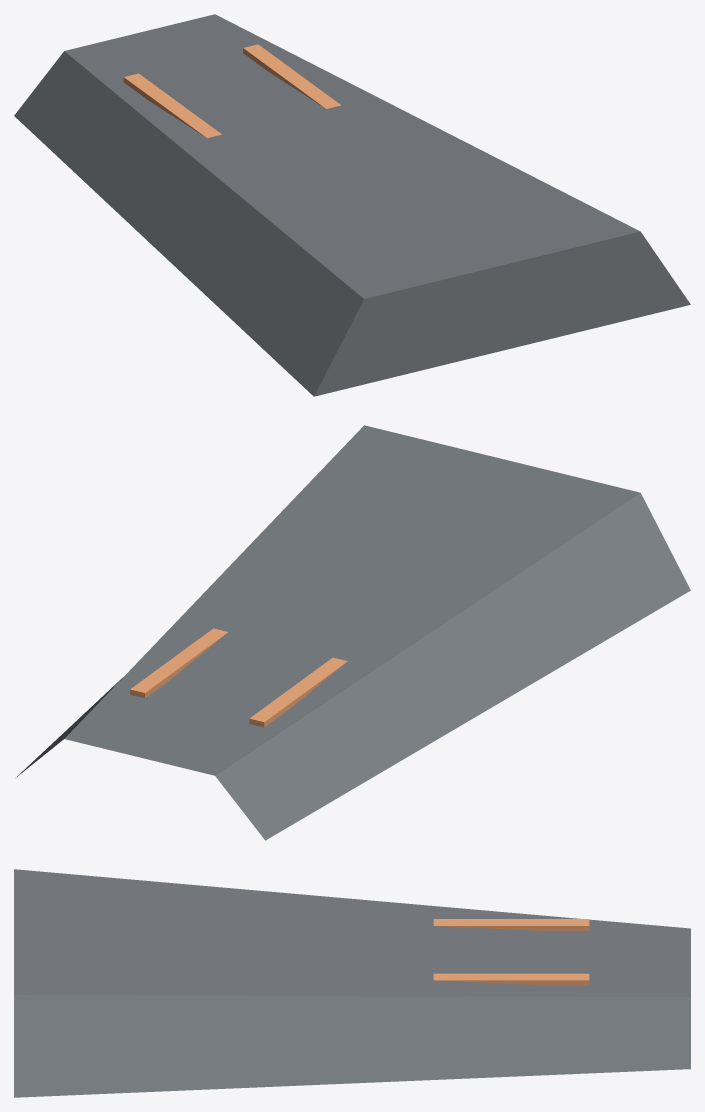
The model's file is glassy_lava_tongue_near-CpFqfPd1.glb.
3 renders of one model, top to bottom at view 1: azimuth 30°, elevation 25°; view 2: azimuth 150°, elevation 25°; view 3: azimuth 270°, elevation 25°, orthographic. The views are drawn at different scales.
Parts seen in each view (by area): view 1: glassy_lava_tongue_near; view 2: glassy_lava_tongue_near; view 3: glassy_lava_tongue_near.
Part boxes in pixels (bbox=[...]): glassy_lava_tongue_near: bbox=[14, 14, 690, 396]; glassy_lava_tongue_near: bbox=[16, 425, 690, 840]; glassy_lava_tongue_near: bbox=[14, 869, 690, 1097].
Size of the model in its own units: 6 by 1.3 by 10.
